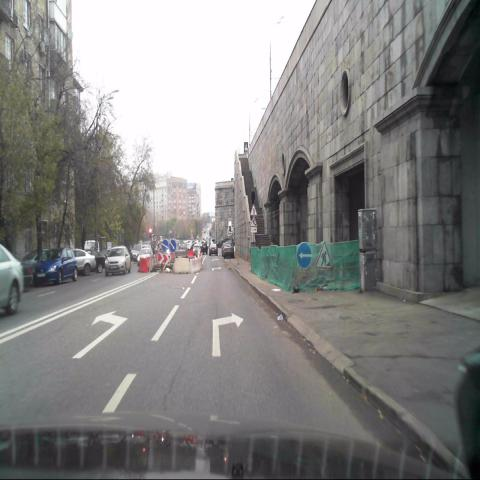4_1_2_2: (296, 242, 312, 270)
